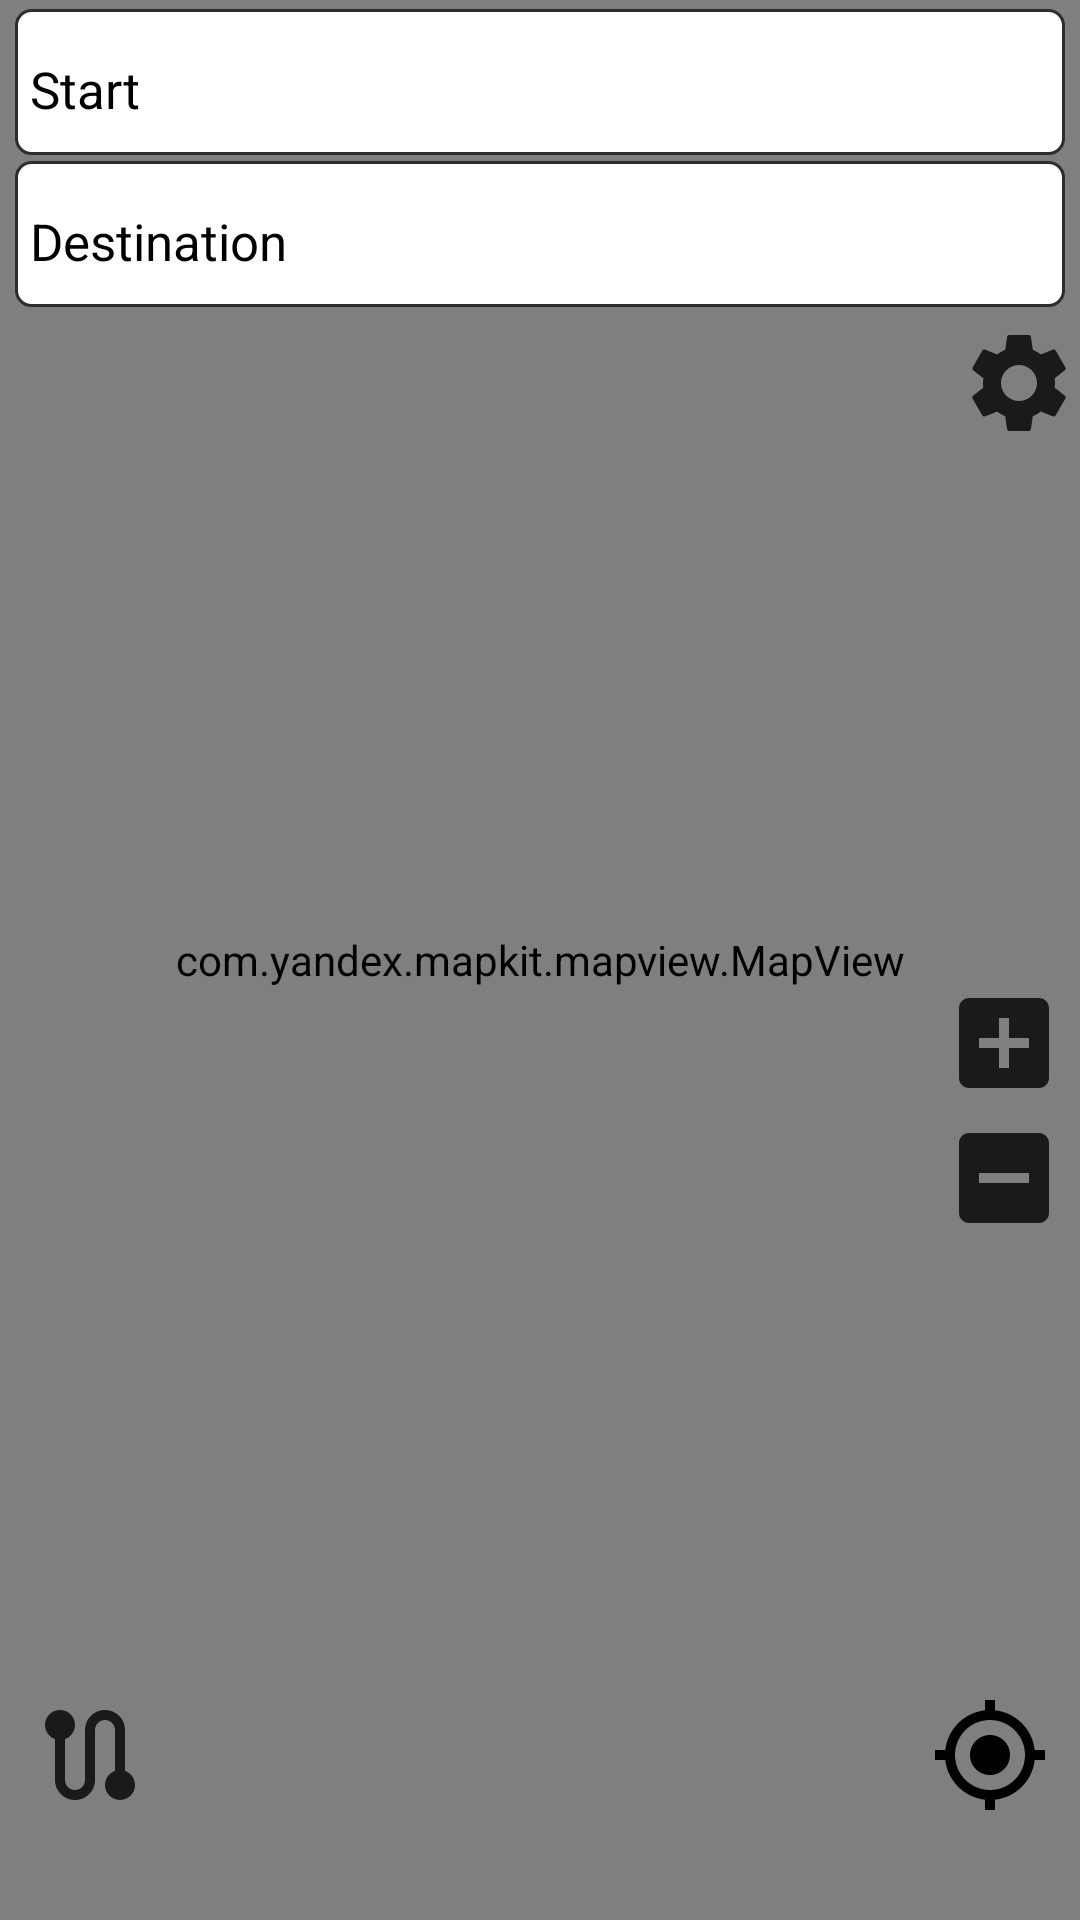

Screen size 1080*1920. Icon name, then its center in pixels as point (x, y):
add box: point (1004, 1043)
minus box: point (1004, 1178)
route: point (90, 1755)
settings: point (1019, 383)
user location track: point (990, 1755)
